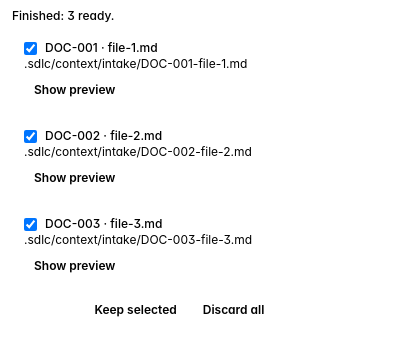
BatchCandidateList: the finished list › offers Discard the rest only after a partial keep, and discards exactly the ready ones left
This screenshot has width=399, height=341.
Expected: the button "Discard the rest" is not shown
What coordinates should you click on to do the following:
click the checkbox named "Keep DOC-002 · file-2.md"
I would click on:
 (30, 136)
Its box is [24, 130, 37, 142].
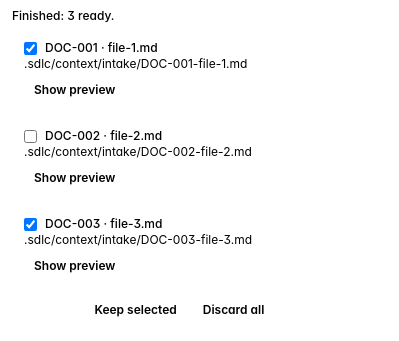
What coordinates should you click on to do the following:
click the checkbox named "Keep DOC-003 · file-3.md"
I would click on:
 (30, 224)
Its box is [24, 218, 37, 230].
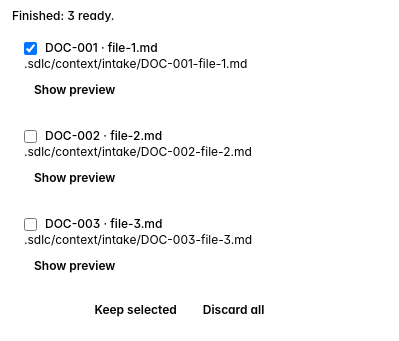
What coordinates should you click on to do the following:
click the button "Keep selected"
I would click on:
 (136, 310)
Its box is [84, 296, 187, 324].
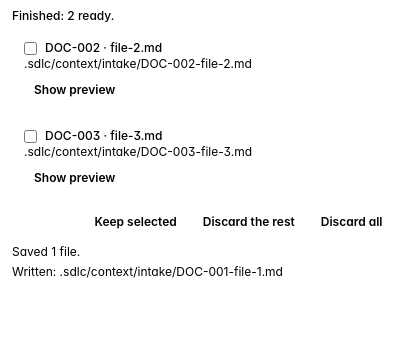
Expected: the text "Saved 1 file." is shown, [12, 244, 80, 259]
What coordinates should you click on to do the following:
click the button "Discard the rest"
I would click on:
 (249, 222)
Its box is [193, 208, 305, 236].
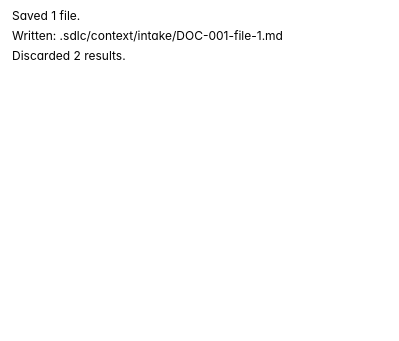
Expected: the text "Saved 1 file." is shown, [12, 8, 80, 23]
Expected: the text "Discarded 2 results." is shown, [12, 48, 126, 63]
Expected: no list items with test id "batch-candidate" are shown
